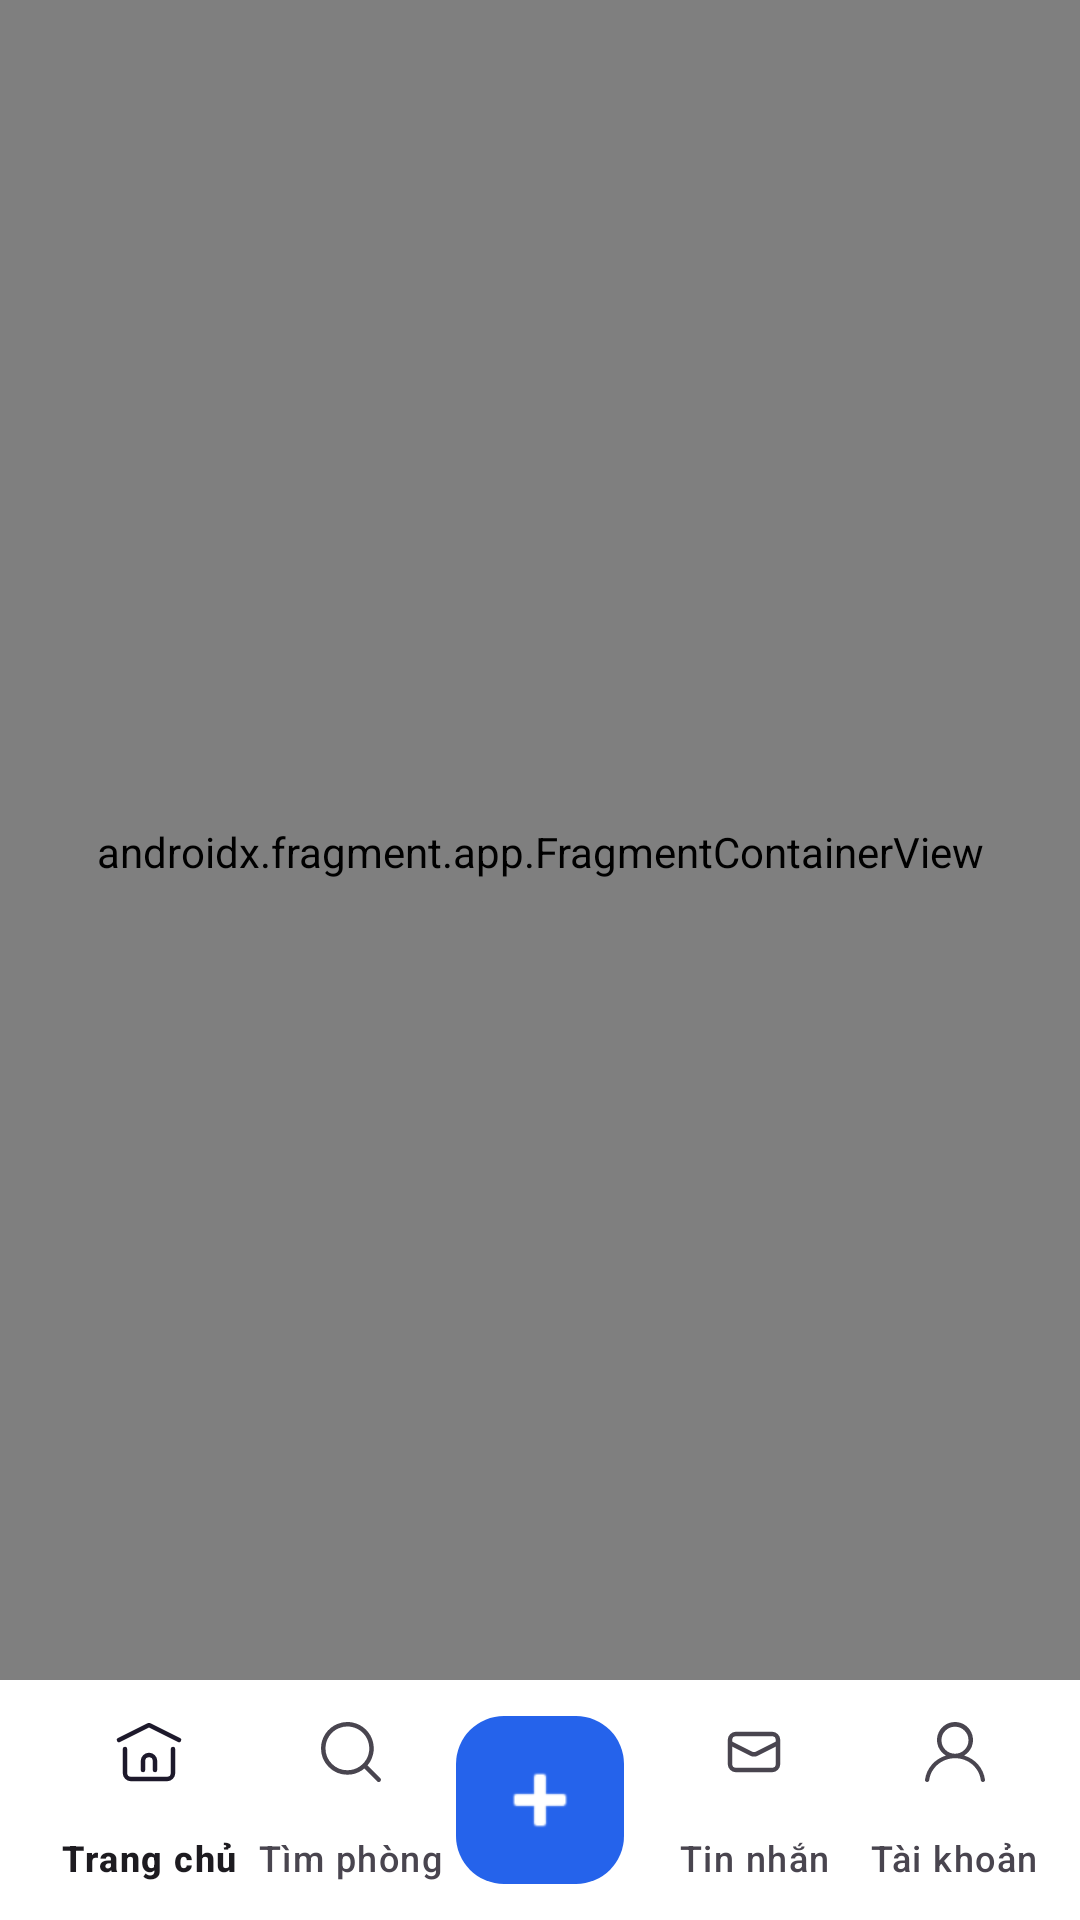

Point at icon controls on the screen. Image size 1080 × 1920, points as (x,y).
add: (540,1818)
